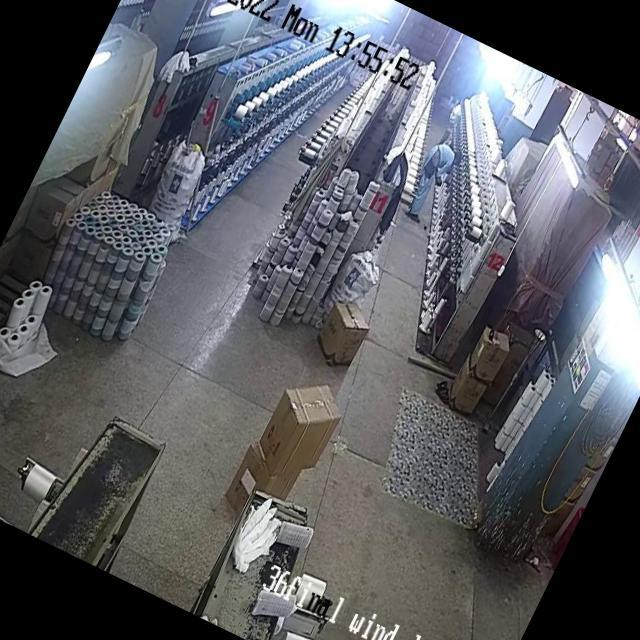person: (396, 130, 466, 227)
